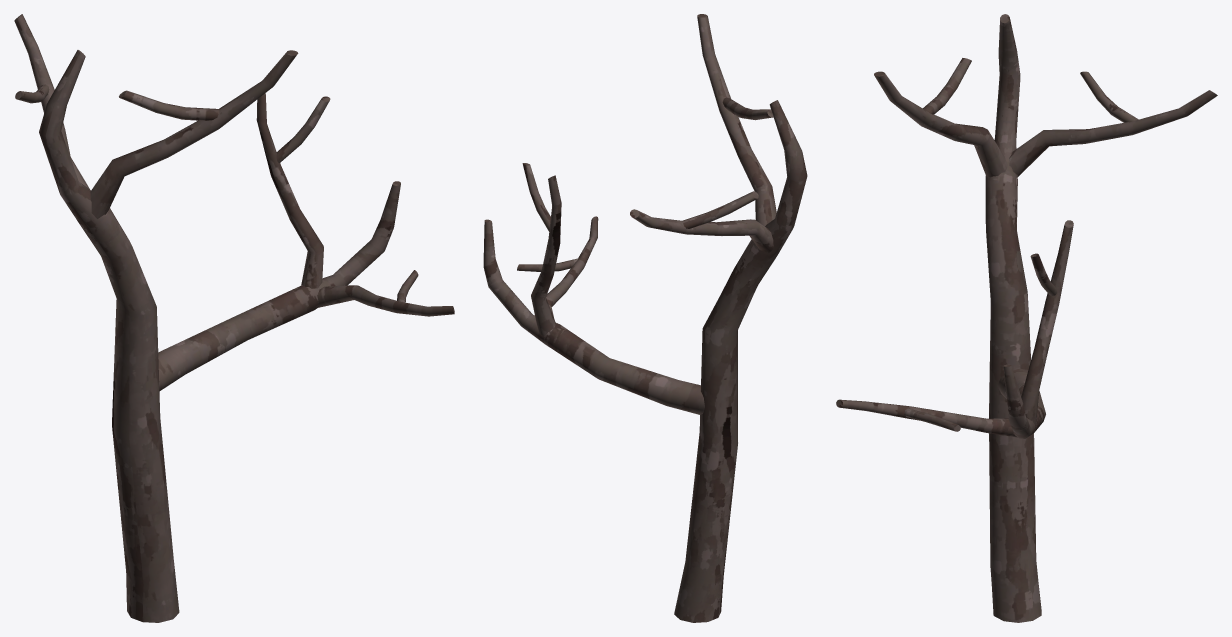
File: deadtree_6.glb
3 renders of one model, left to right at view 1: azimuth 30°, elevation 25°; view 2: azimuth 150°, elevation 25°; view 3: azimuth 270°, elevation 25°, orthographic. The views are drawn at different scales.
Parts seen in each view (by area): view 1: DeadTree_6; view 2: DeadTree_6; view 3: DeadTree_6.
Boxes of the visible parts, x1,y1,x2,y2 form: DeadTree_6: [14, 14, 454, 622]; DeadTree_6: [483, 14, 807, 622]; DeadTree_6: [836, 14, 1217, 622].
Bounding box in the file's own units: 4.79 × 7.61 × 4.62.
1 material, 1 textured.
